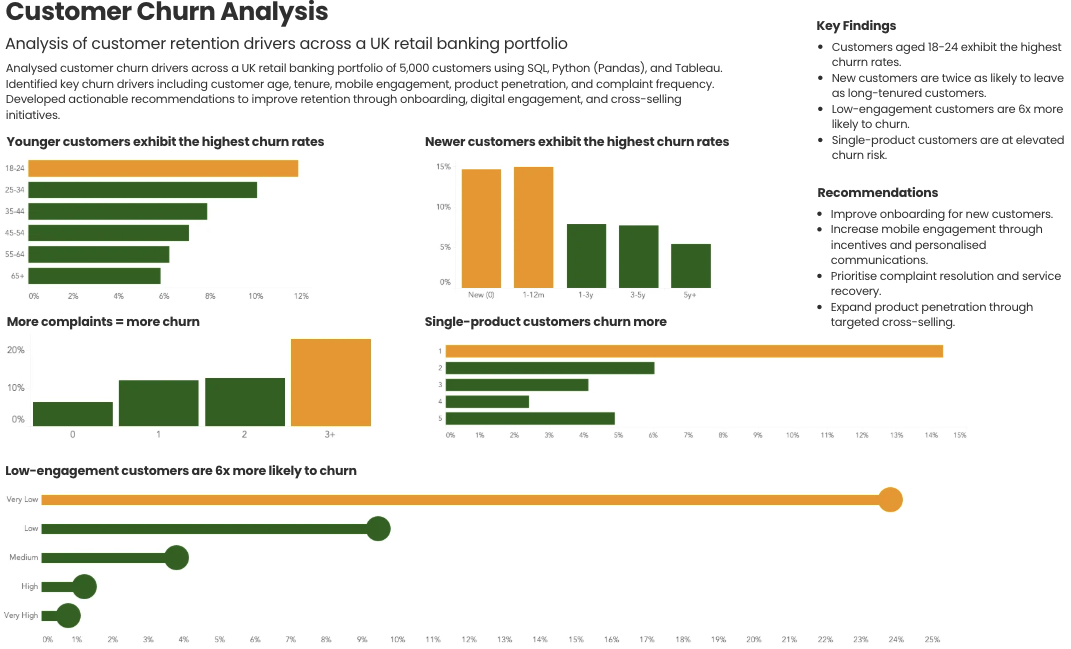

The dashboard page shown, as its layout file describes it:
{"tool":"tableau","page":{"name":"Customer Churn Analysis","canvas":[1600,900],"ordinal":0},"visuals":[{"type":"text","box":[642,11,322,44]},{"type":"text","box":[534,43,530,52]},{"type":"text","box":[1060,102,507,260]},{"type":"worksheet","title":"Age Band","mark":"Bar","rows":["age_band"],"cols":["Calculation_3218007196639232"],"box":[64,103,489,299]},{"type":"worksheet","title":"New Customers","mark":"Automatic","rows":["Calculation_3218007196639232"],"cols":["tenure_band"],"box":[582,103,442,261]},{"type":"worksheet","title":"Complaints","mark":"Bar","rows":["Calculation_3218007196639232"],"cols":["complaint_band"],"box":[63,387,488,183]},{"type":"worksheet","title":"Product Count","mark":"Bar","rows":["number_of_products"],"cols":["Calculation_3218007196639232"],"box":[582,387,958,235]},{"type":"worksheet","title":"Mobile","mark":"Circle","rows":["engagement_band"],"cols":["Calculation_3218007196639232","Calculation_3218007196639232"],"box":[62,590,1492,305]}]}

Visuals, with their boxes on the page's 1600x900 design canvas (x1, y1, x2, y2). These are canvas units, not pixel positions in the 1071x649 screenshot, which may show the page scaled, cropped or inside an application window:
text: Rect(642, 11, 964, 55)
text: Rect(534, 43, 1064, 95)
text: Rect(1060, 102, 1567, 362)
"Age Band" worksheet (Bar marks): Rect(64, 103, 553, 402)
"New Customers" worksheet: Rect(582, 103, 1024, 364)
"Complaints" worksheet (Bar marks): Rect(63, 387, 551, 570)
"Product Count" worksheet (Bar marks): Rect(582, 387, 1540, 622)
"Mobile" worksheet (Circle marks): Rect(62, 590, 1554, 895)
